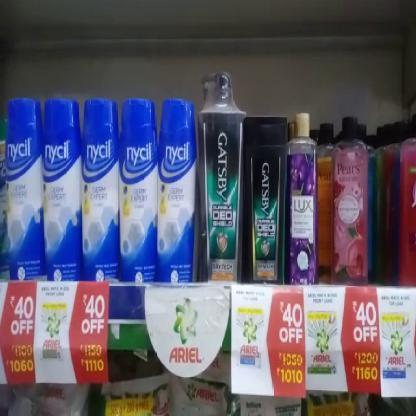Nycil Prickly Heat Powder: (157, 102, 198, 283), (4, 96, 42, 282), (43, 101, 79, 284)
